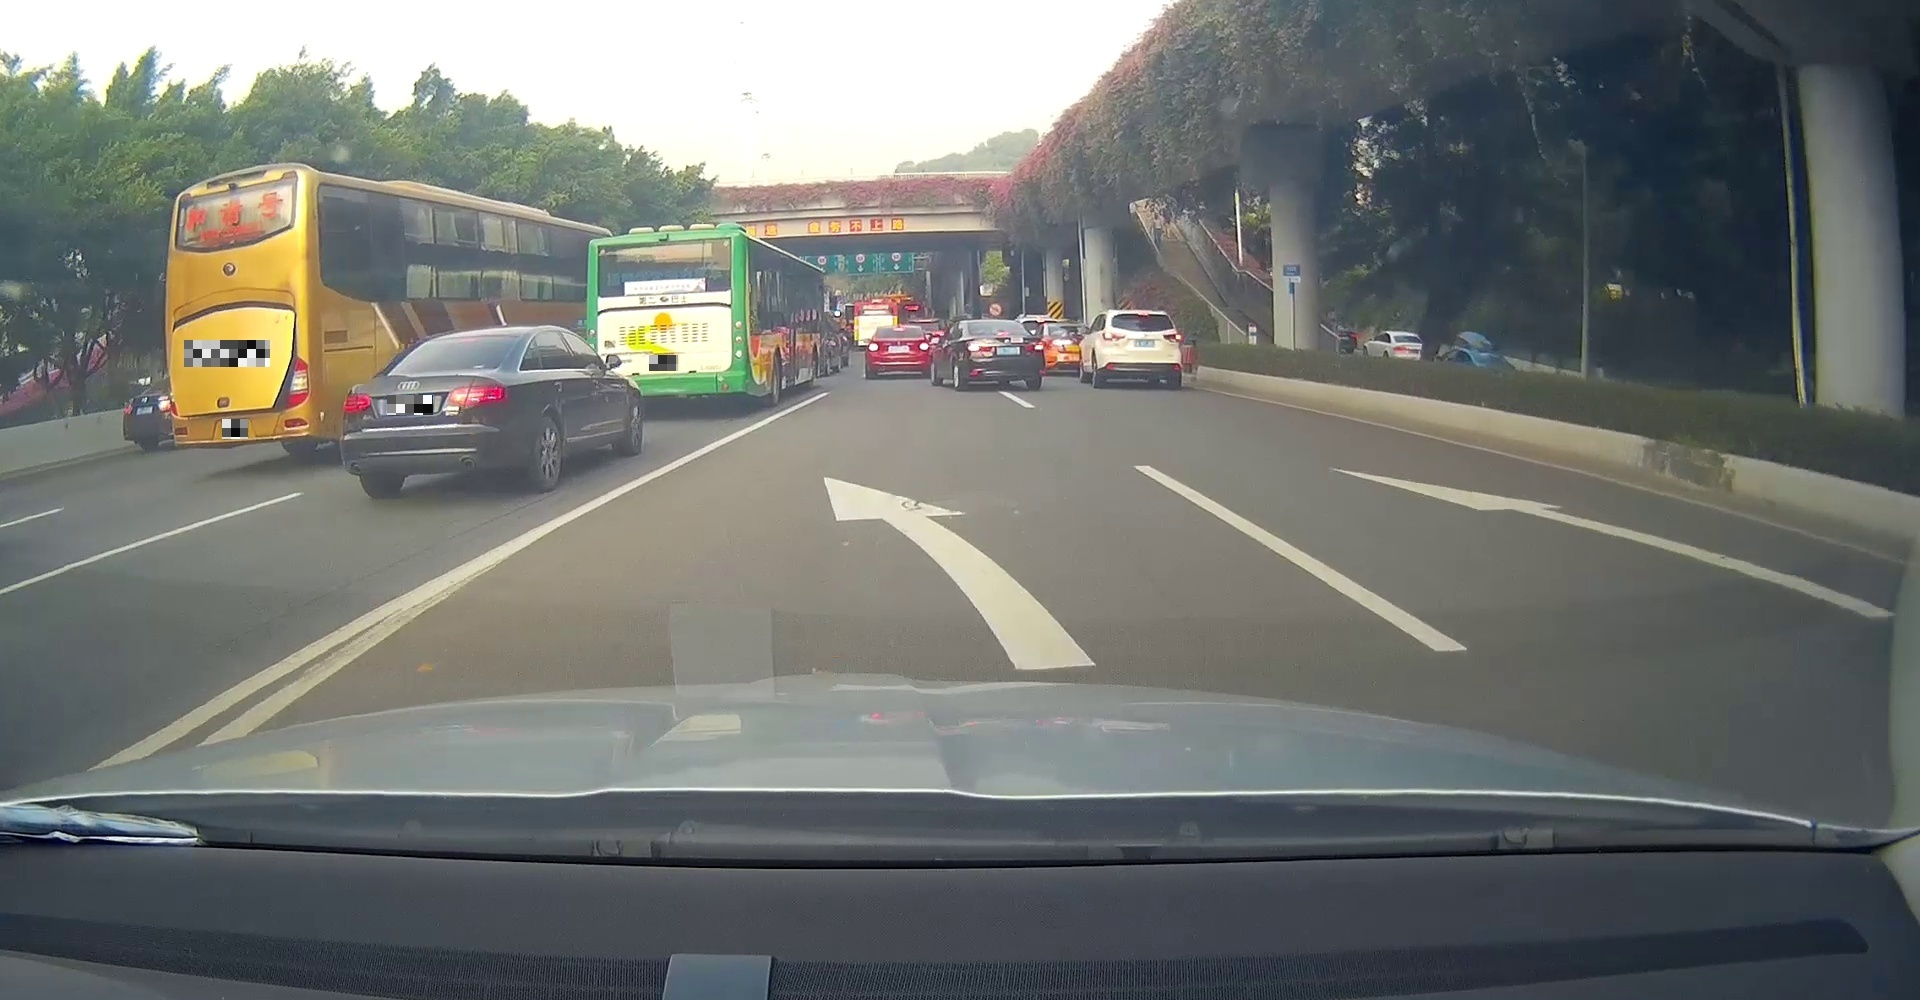L_light: (343, 393, 371, 412), (168, 376, 178, 416), (969, 346, 996, 358), (1102, 332, 1124, 341), (869, 341, 883, 352)
R_light: (450, 385, 503, 406), (287, 357, 309, 410), (1025, 341, 1043, 352), (1163, 334, 1181, 343), (916, 341, 930, 350)
T_light: (222, 176, 249, 183), (460, 338, 477, 341), (996, 332, 1010, 336), (1138, 312, 1148, 316), (894, 327, 903, 331)
day-brake: (340, 331, 524, 499), (1101, 311, 1182, 390), (963, 320, 1045, 390), (865, 326, 930, 378)
day-no: (166, 162, 311, 464)
plate_1: (184, 340, 270, 367)
plate_2: (222, 419, 248, 439)
plate_3: (387, 395, 433, 415)
plate_4: (649, 355, 678, 371)
